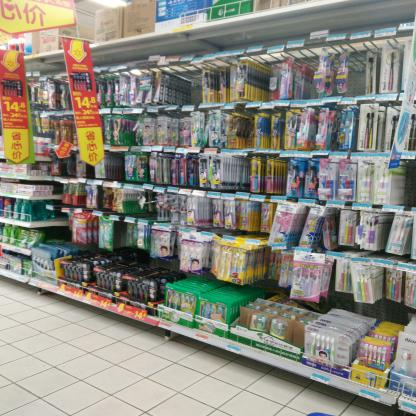Void: (174, 75, 202, 103), (350, 54, 365, 92), (401, 163, 414, 205), (385, 306, 402, 322), (113, 157, 125, 177), (45, 227, 65, 237)
